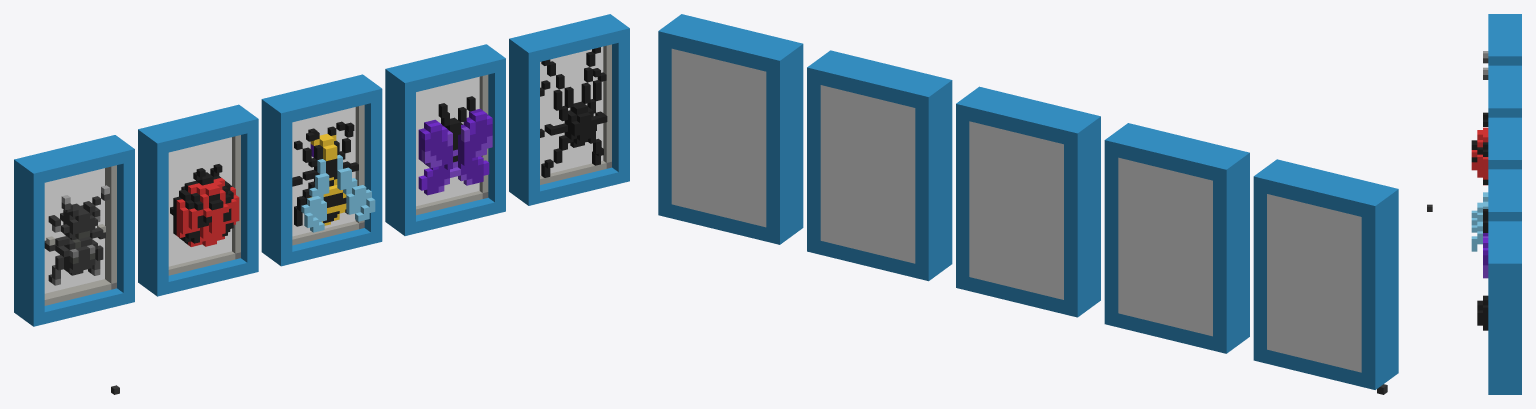
The model's file is gr02-5paintings_of_insects_-.glb.
The picture shows the model from 3 angles, left to right: view 1: azimuth 30°, elevation 25°; view 2: azimuth 150°, elevation 25°; view 3: azimuth 270°, elevation 25°; orthographic projection. The views are drawn at different scales.
Parts seen in each view (by area): view 1: Object_2; view 2: Object_2; view 3: Object_2.
Part boxes in pixels (x1=…): Object_2: x1=14, y1=14, x2=629, y2=394; Object_2: x1=658, y1=14, x2=1398, y2=394; Object_2: x1=1427, y1=14, x2=1521, y2=394.
Bounding box in the file's own units: 10.6 × 3.5 × 1.7.
Materials: 1 (1 with a texture image).
